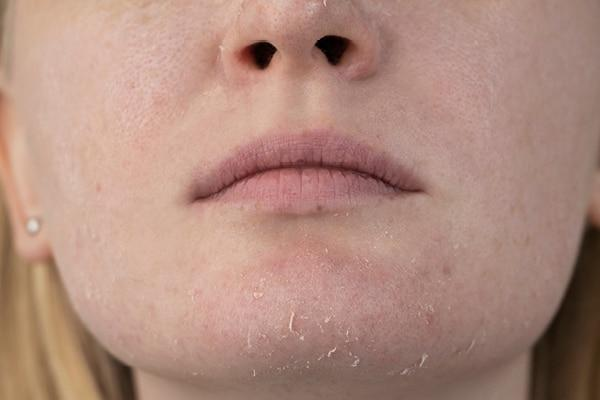Dry-Skin: (169, 278, 505, 383)
